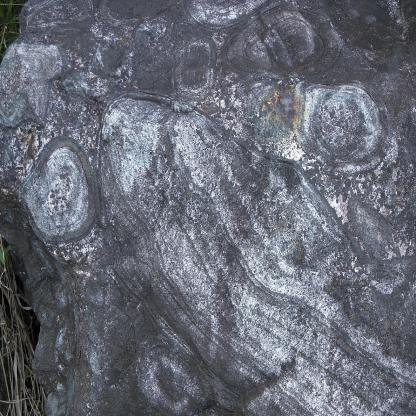Igneous_Diorite: (4, 6, 416, 416)
